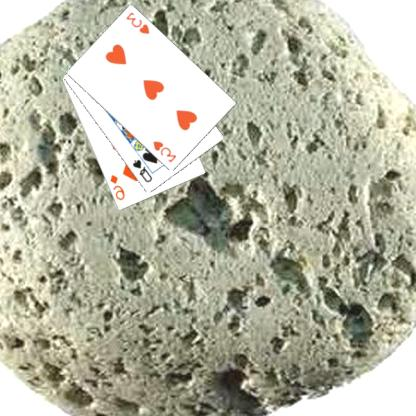3H: (152, 138, 180, 164), (125, 10, 153, 36)
9D: (109, 172, 129, 202)
QS: (132, 157, 156, 184)
